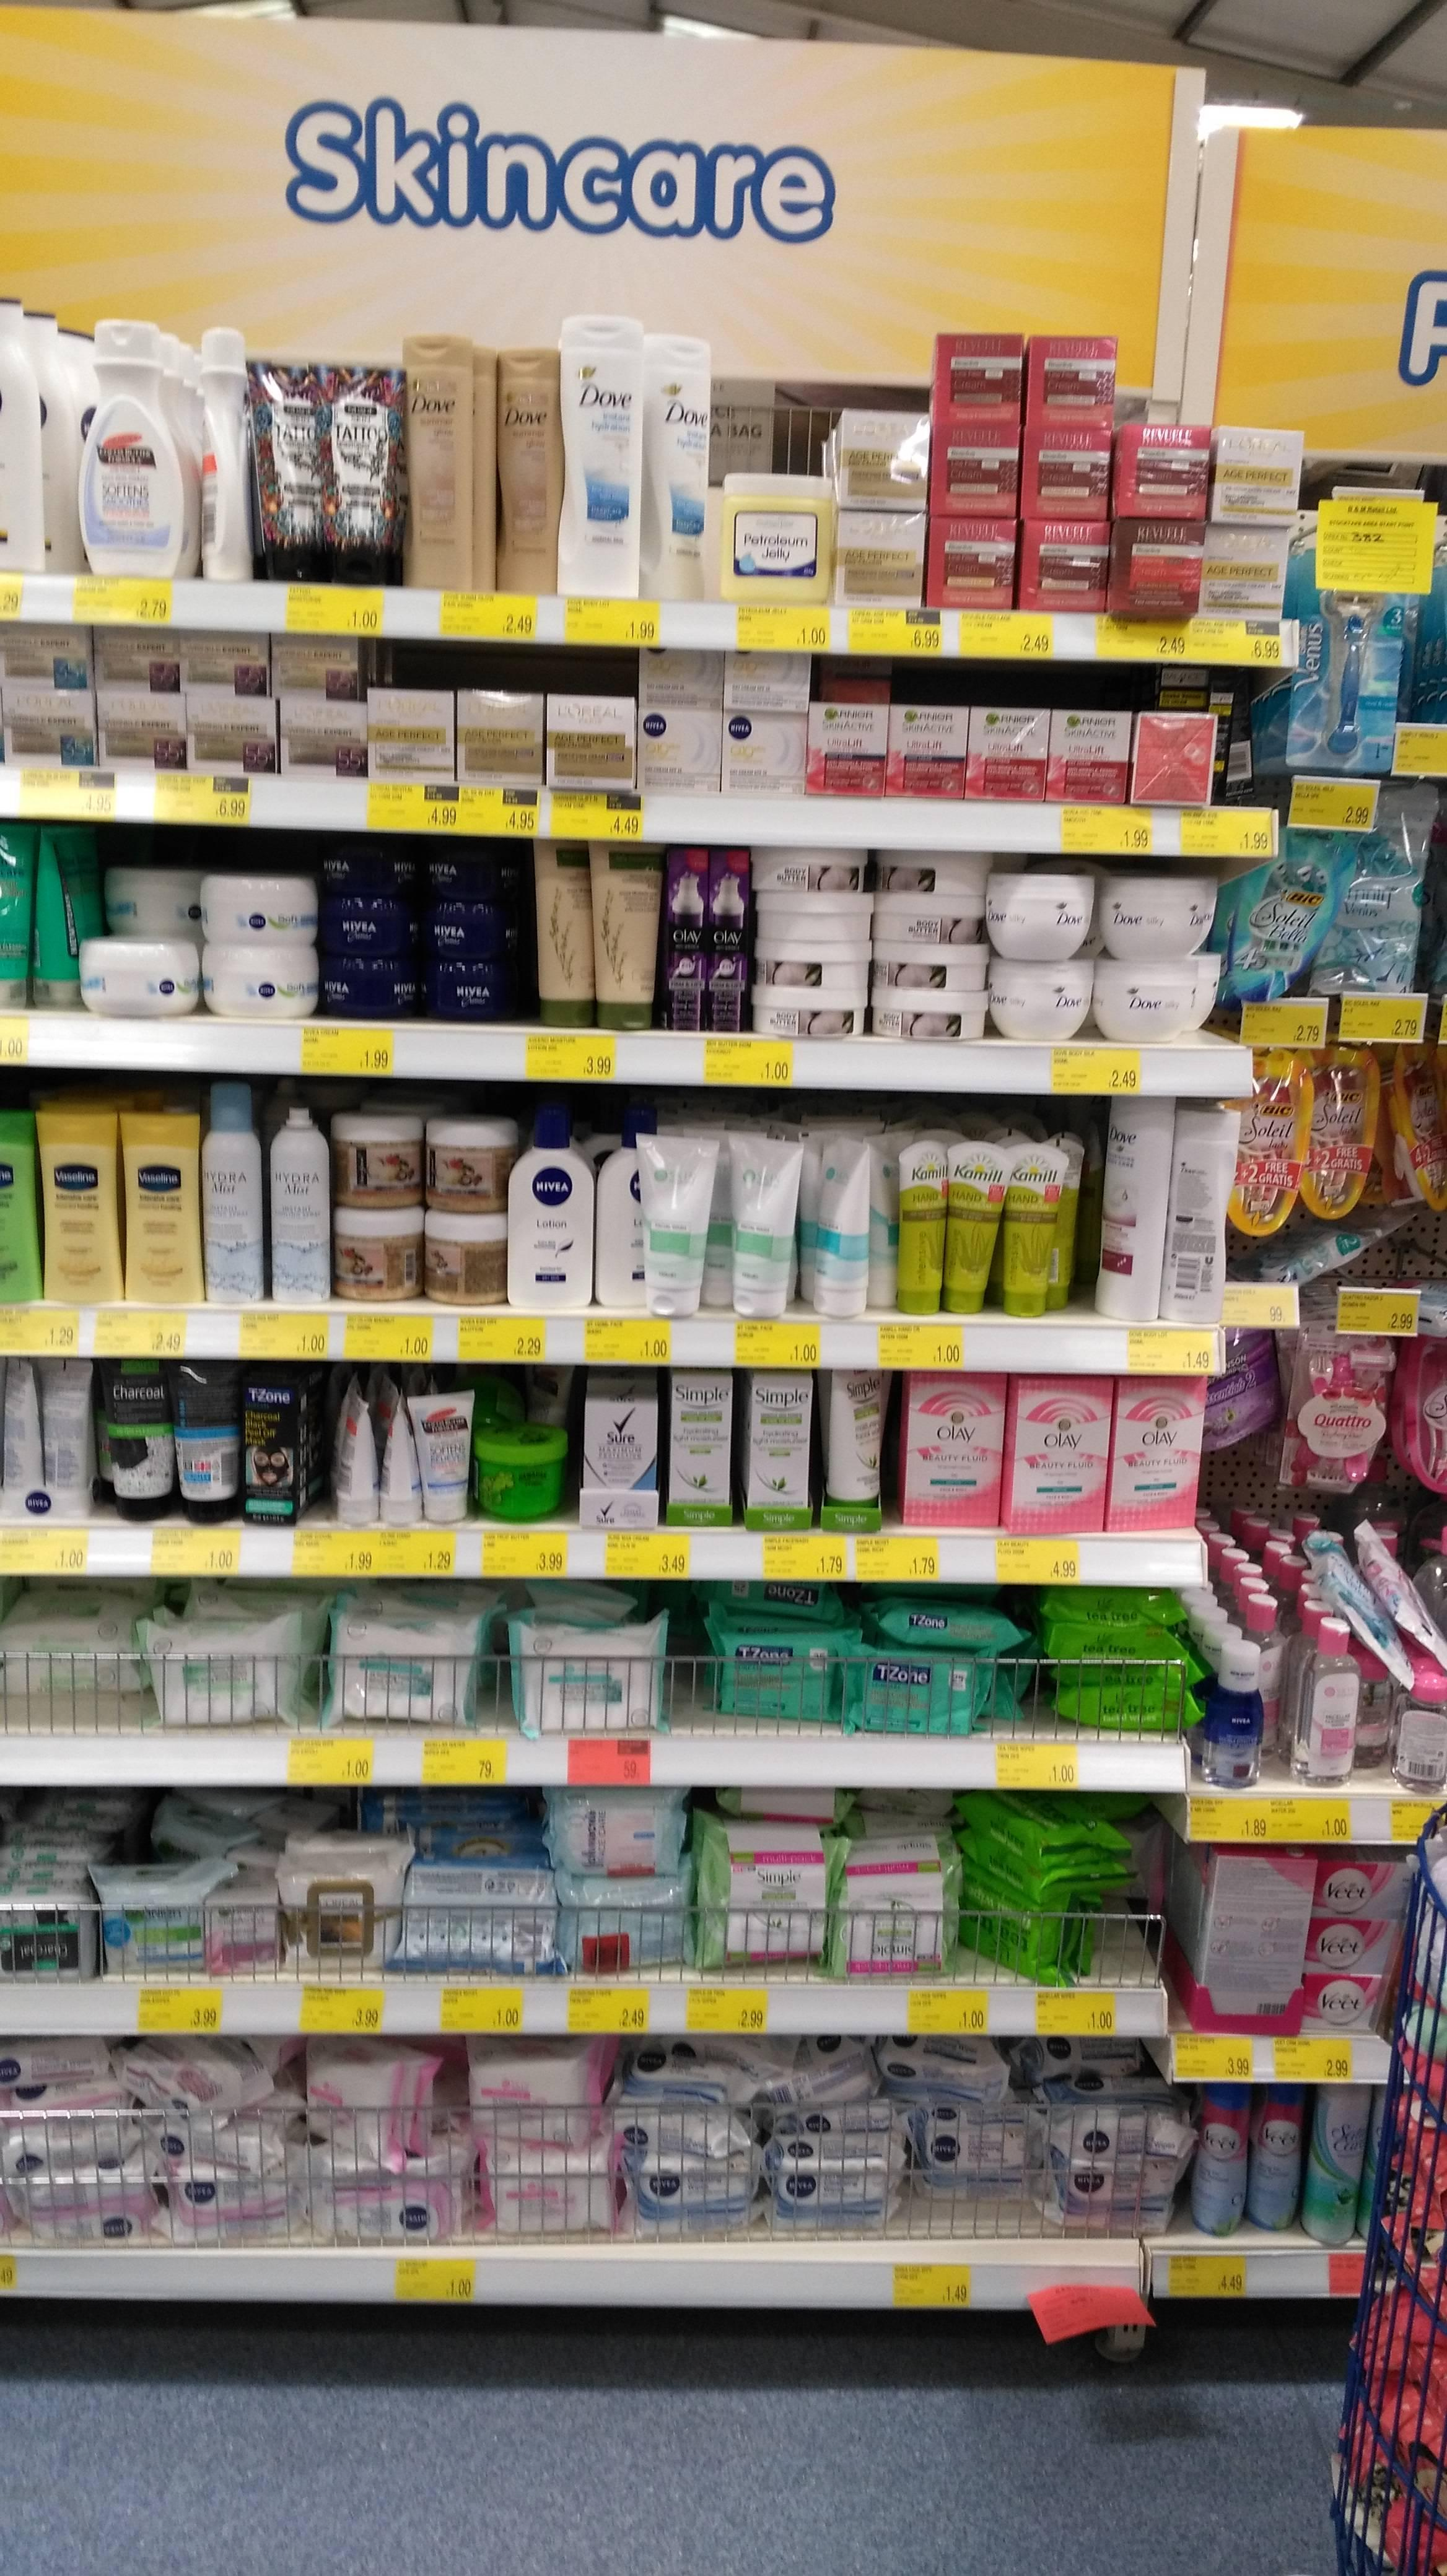misalignment: (973, 1799, 1141, 1989), (1311, 1527, 1442, 1665), (632, 1131, 708, 1313), (124, 2033, 265, 2127), (812, 1141, 874, 1330), (1125, 706, 1222, 809), (824, 1366, 888, 1520), (883, 1606, 1028, 1658), (379, 1392, 425, 1525), (334, 1389, 375, 1518)
